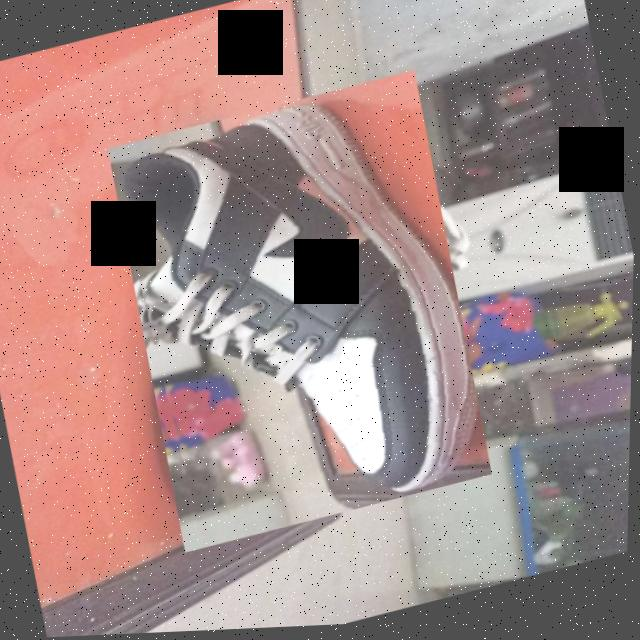shoe: (101, 70, 501, 557)
